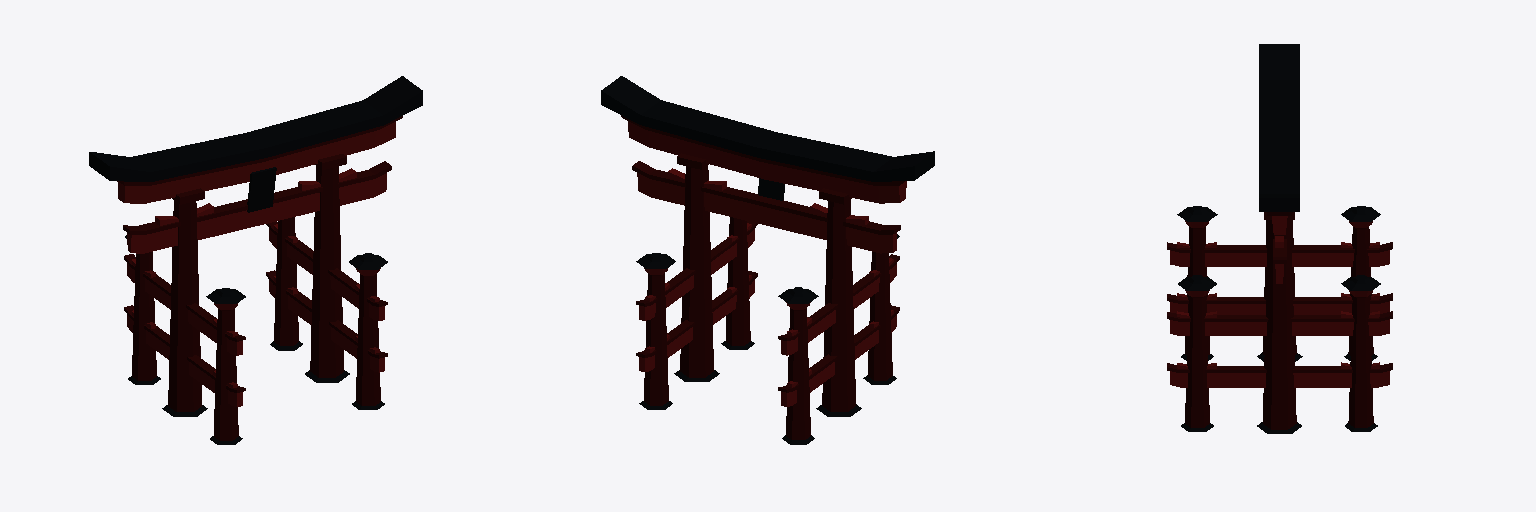
File: Big_Torii_Gate.obj
The picture shows the model from 3 angles: view 1: azimuth 30°, elevation 25°; view 2: azimuth 150°, elevation 25°; view 3: azimuth 270°, elevation 25°; orthographic projection.
Visible parts, largest first — view 1: Cylinder.002; view 2: Cylinder.002; view 3: Cylinder.002.
Boxes of the visible parts, <box> form: Cylinder.002: <box>89,76,422,444</box>; Cylinder.002: <box>601,76,934,444</box>; Cylinder.002: <box>1167,44,1392,433</box>.
Bounding box in the file's own units: 15.68 × 12.94 × 9.78.